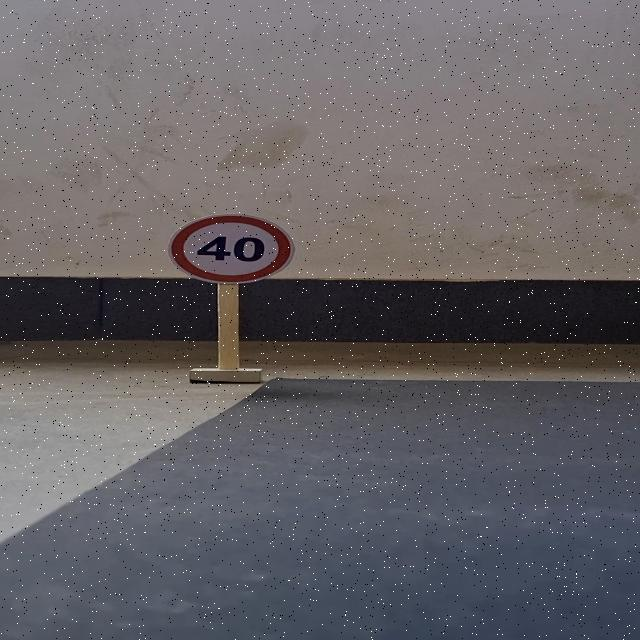Speed40: (162, 208, 302, 286)
